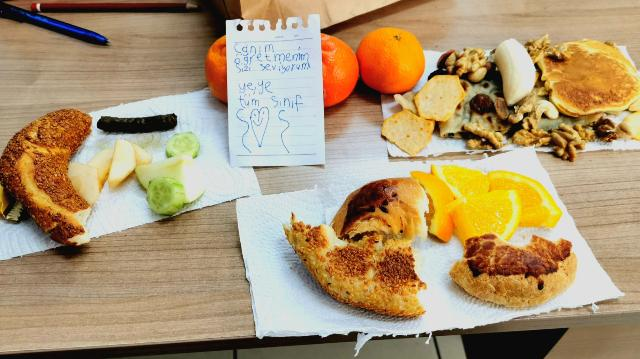Organik: (281, 218, 431, 320), (412, 160, 568, 246), (0, 101, 92, 245), (449, 232, 579, 312), (341, 177, 426, 242), (357, 29, 429, 94), (492, 35, 537, 104), (93, 110, 178, 136), (543, 121, 587, 169), (105, 134, 141, 190), (142, 176, 190, 216), (165, 130, 199, 163)
